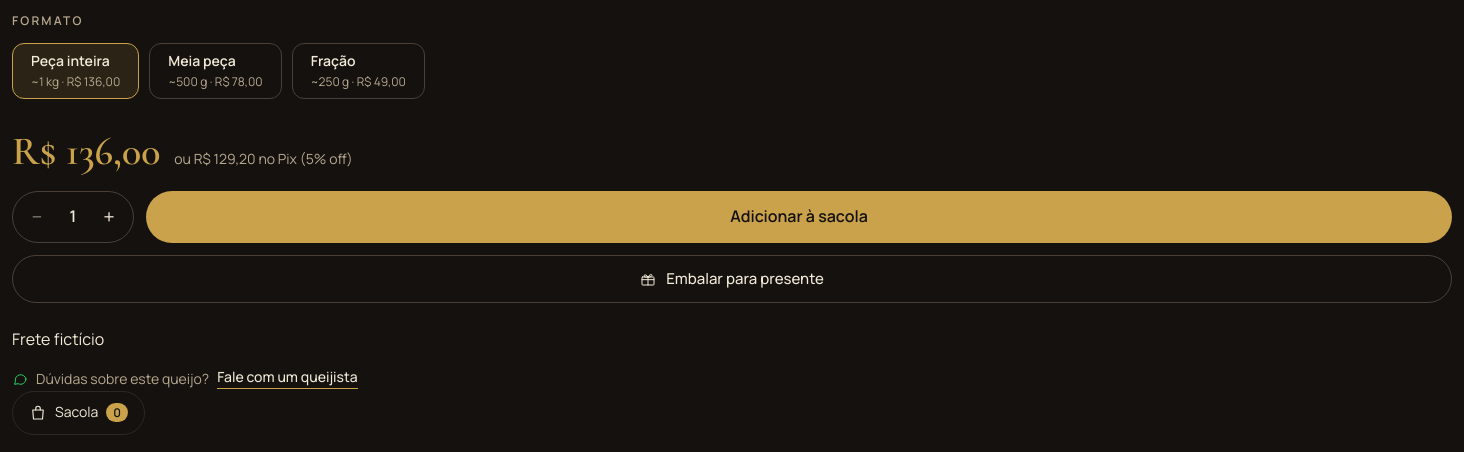
PainelDeCompra › "Meia peça" mostra R$ 78,00 e Pix R$ 74,10 no painel e na barra
This screenshot has width=1464, height=452.
Click the radio button labelled "Meia peça ~500 g · R$ 78,00": (216, 71) [149,43,282,99]
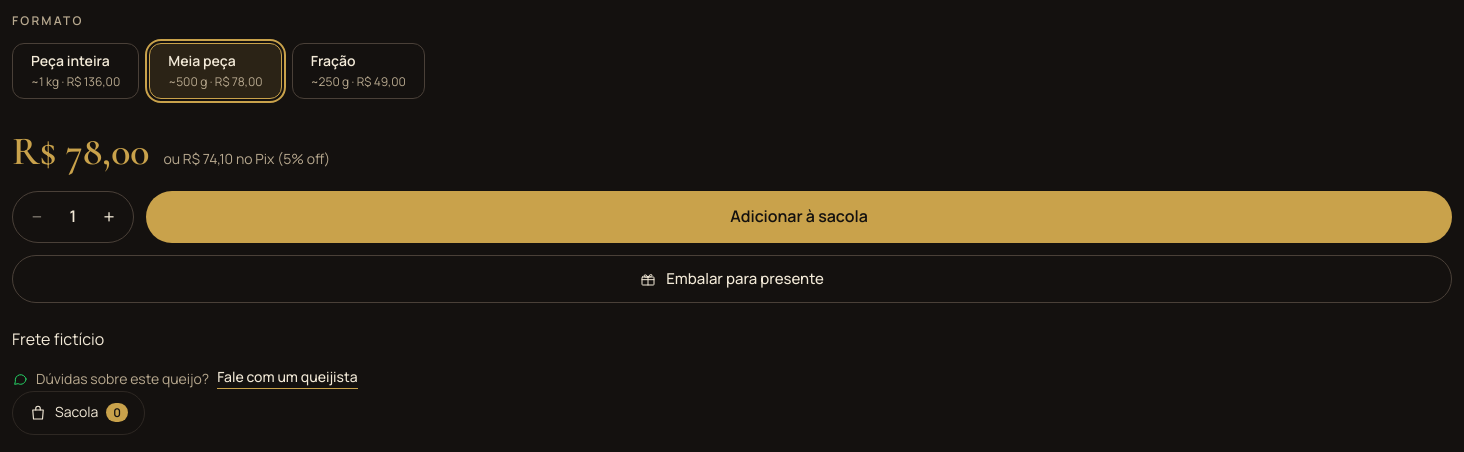
Now the text "ou R$ 74,10 no Pix (5% off)" is shown, box [163,148,330,170]
Now the text with test id "preco-do-painel" reads "R$ 78,00", box [12,127,149,175]
